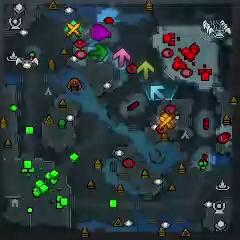Other: (63, 20, 84, 41), (155, 112, 175, 133)
p3: (91, 23, 111, 41)
x1: (114, 48, 130, 67)
x2: (138, 61, 154, 79)
x3: (150, 85, 166, 101)
x4: (89, 43, 108, 64)
